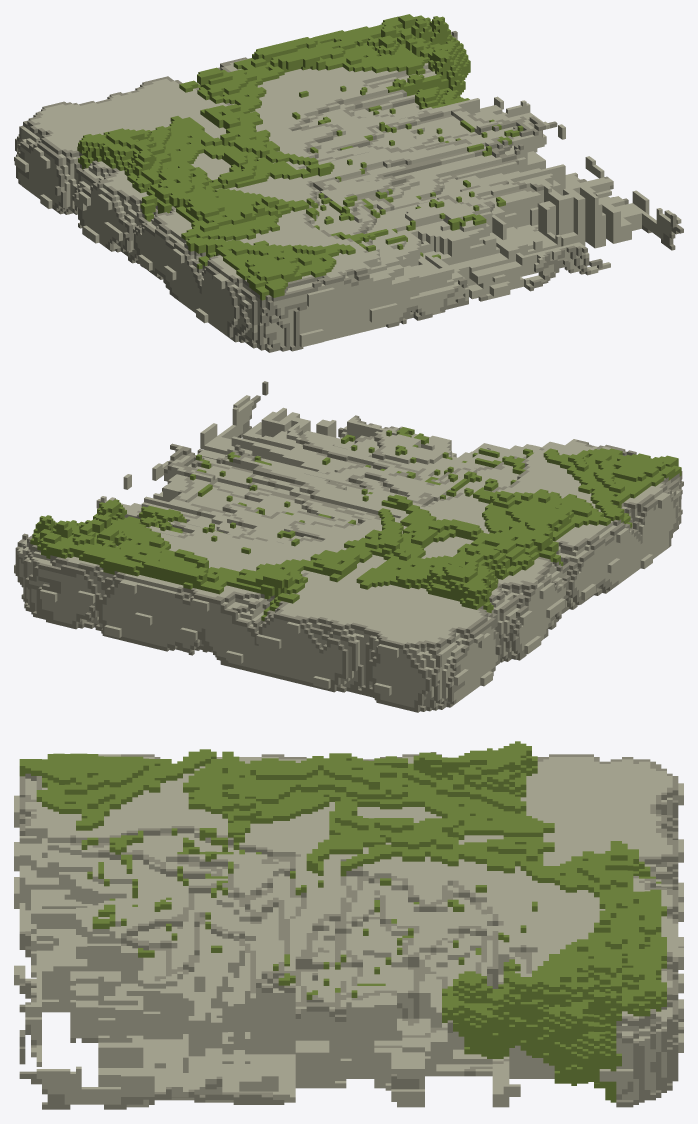
The model's file is forest1.4-13.obj.
3 renders of one model, top to bottom at view 1: azimuth 30°, elevation 25°; view 2: azimuth 150°, elevation 25°; view 3: azimuth 270°, elevation 25°, orthographic. The views are drawn at different scales.
Bounding box in the file's own units: 11.8 × 2.1 × 11.9.
Materials: 1 (1 with a texture image).
